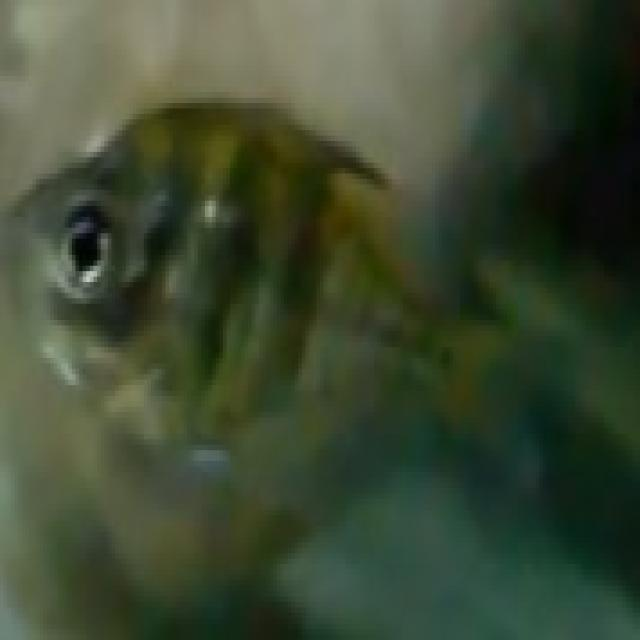Glass-Perchlet: (0, 64, 575, 542)
